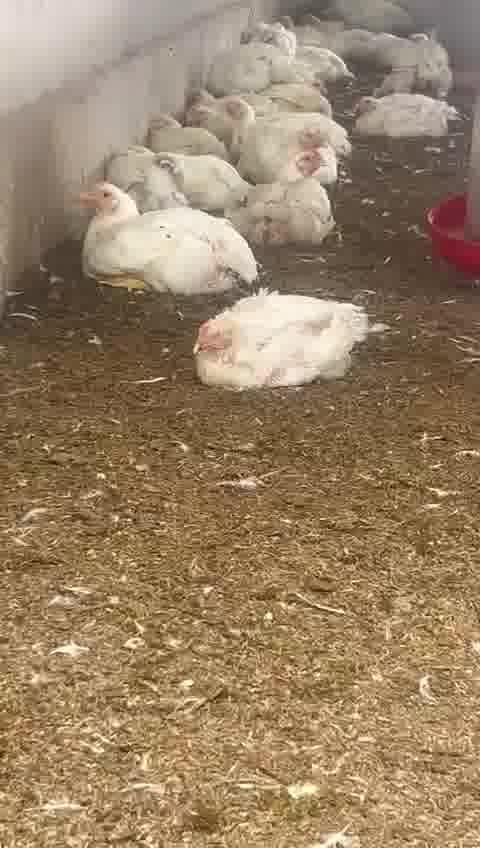AbNormal: (189, 285, 377, 395), (111, 149, 227, 203), (133, 105, 232, 167), (171, 63, 232, 129)
Normal: (75, 181, 306, 305), (244, 149, 340, 243), (219, 93, 351, 152), (344, 86, 458, 141), (252, 122, 356, 179)
